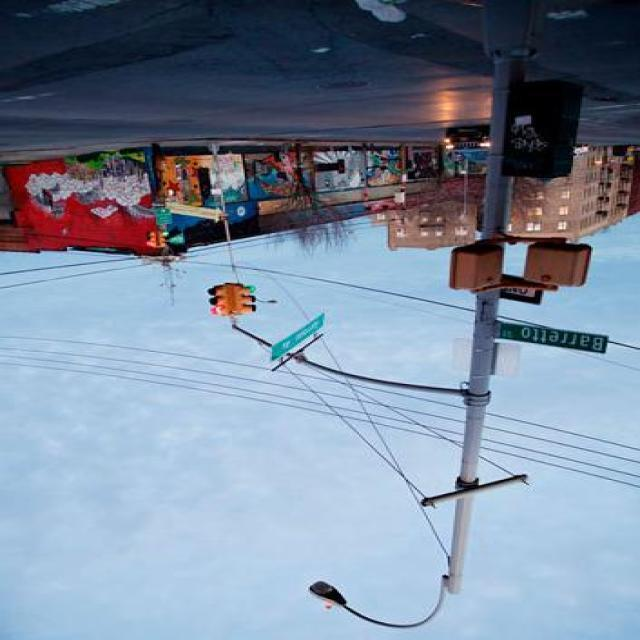off: (250, 533, 508, 622)
